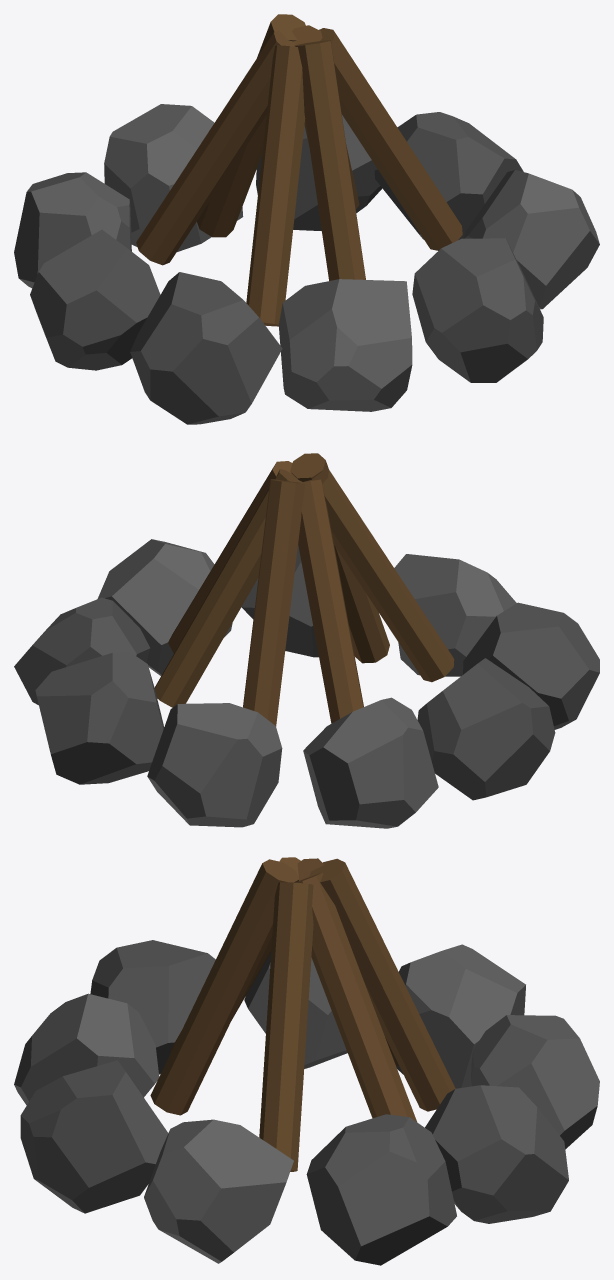
Rendered from Campfire_1.fbx.
The picture shows the model from 3 angles, top to bottom: view 1: azimuth 30°, elevation 25°; view 2: azimuth 150°, elevation 25°; view 3: azimuth 270°, elevation 25°; orthographic projection. The views are drawn at different scales.
Parts seen in each view (by area): view 1: campfire, campfire.009, campfire.008, campfire.001, campfire.007, campfire.002, campfire.005, campfire.006, campfire.003, campfire.004; view 2: campfire, campfire.005, campfire.004, campfire.007, campfire.006, campfire.008, campfire.002, campfire.009, campfire.003, campfire.001; view 3: campfire, campfire.003, campfire.001, campfire.002, campfire.004, campfire.005, campfire.006, campfire.009, campfire.008, campfire.007.
Boxes of the visible parts, x1,y1,x2,y2 form: campfire: (136, 14, 462, 326); campfire.009: (278, 279, 412, 411); campfire.008: (130, 272, 282, 424); campfire.001: (412, 238, 543, 382); campfire.007: (30, 229, 160, 370); campfire.002: (463, 170, 599, 309); campfire.005: (104, 104, 243, 251); campfire.006: (14, 172, 131, 288); campfire.003: (374, 112, 523, 239); campfire.004: (256, 115, 382, 230); campfire: (154, 453, 454, 726); campfire.005: (147, 703, 282, 827); campfire.004: (35, 651, 164, 784); campfire.007: (417, 658, 555, 800); campfire.006: (303, 697, 438, 828); campfire.008: (463, 602, 599, 729); campfire.002: (97, 539, 232, 675); campfire.009: (394, 554, 516, 676); campfire.003: (14, 597, 150, 705); campfire.001: (241, 544, 318, 657); campfire: (150, 857, 455, 1171); campfire.003: (306, 1114, 456, 1265); campfire.001: (20, 1060, 168, 1213); campfire.002: (144, 1119, 293, 1263); campfire.004: (425, 1085, 568, 1223); campfire.005: (471, 1015, 599, 1149); campfire.006: (396, 944, 525, 1088); campfire.009: (14, 993, 159, 1105); campfire.008: (90, 940, 215, 1074); campfire.007: (244, 952, 347, 1068).
Size of the model in its own units: 1824 by 993 by 1723.
